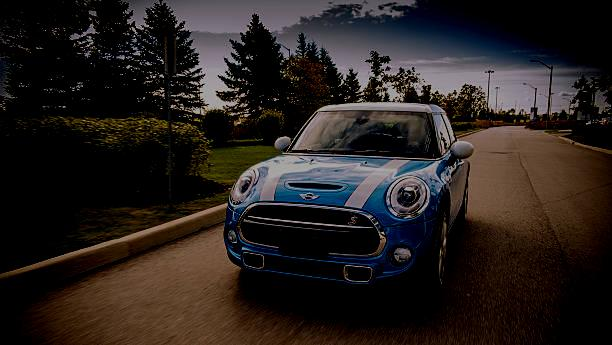mini: (292, 185, 325, 209)
